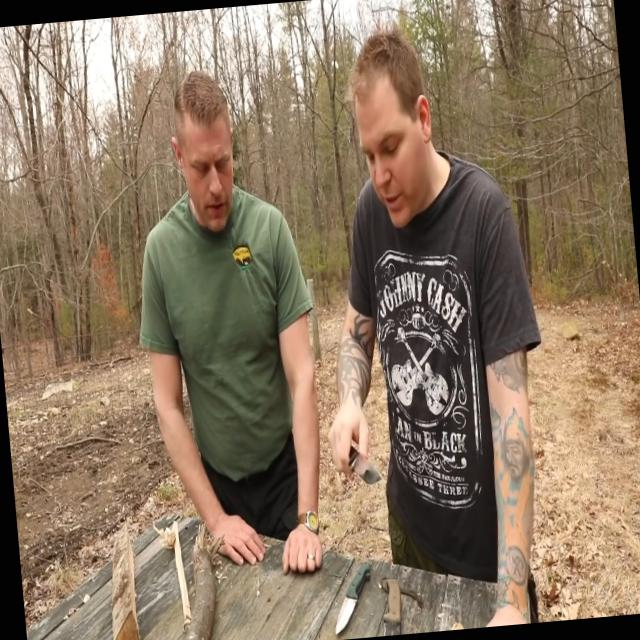knife: (322, 408, 389, 497)
